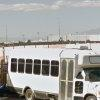Bus: (8, 36, 98, 100)
